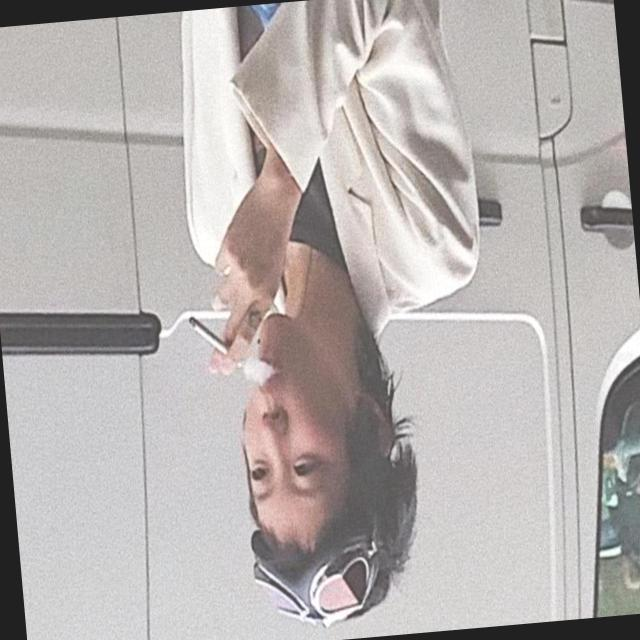smoke: (172, 297, 270, 393)
